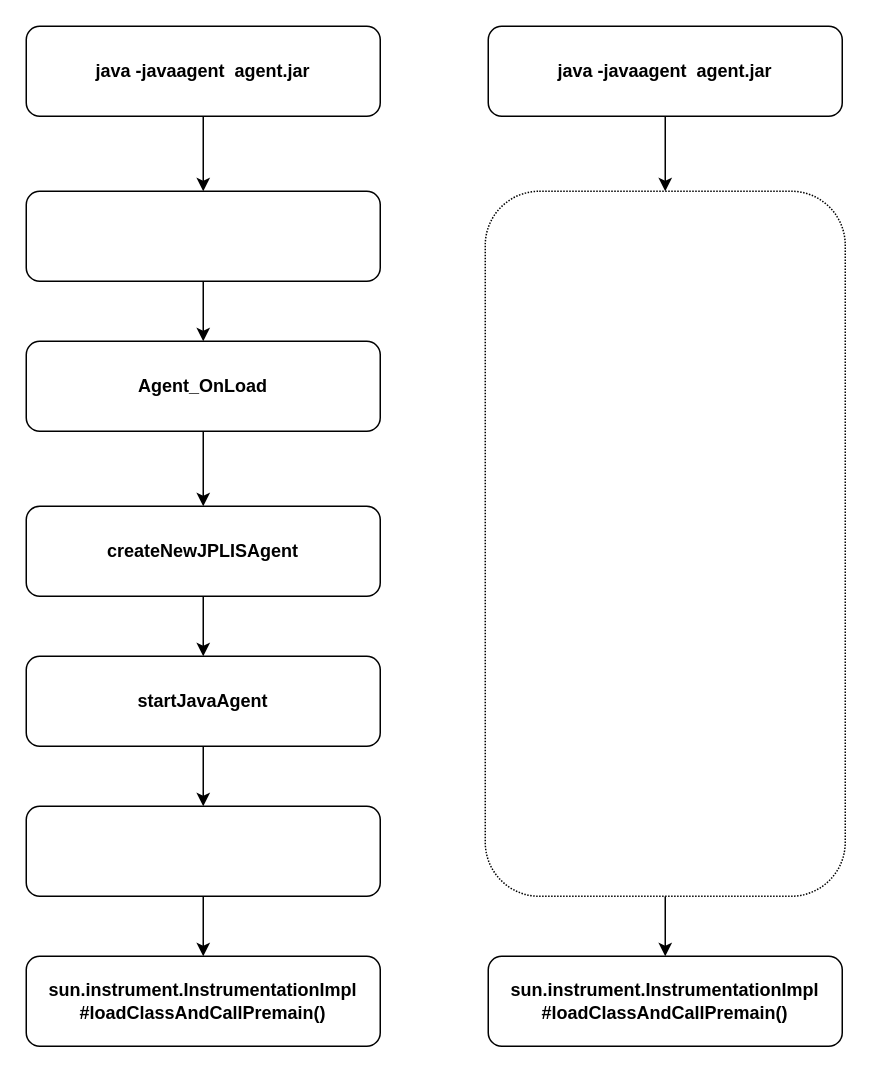
This 872x1073 diagram has some shape labels left out. Each missing label, with the box of its shape:
create_vm_init_agents: (25, 190, 380, 281)
invokeJavaAgentMainMethod: (25, 805, 380, 896)
VM init: (484, 190, 845, 896)
